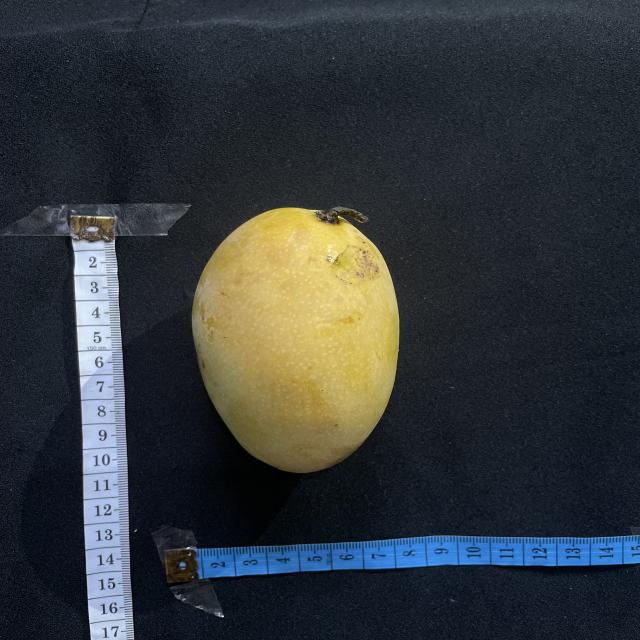Ripe: (192, 207, 399, 473)
